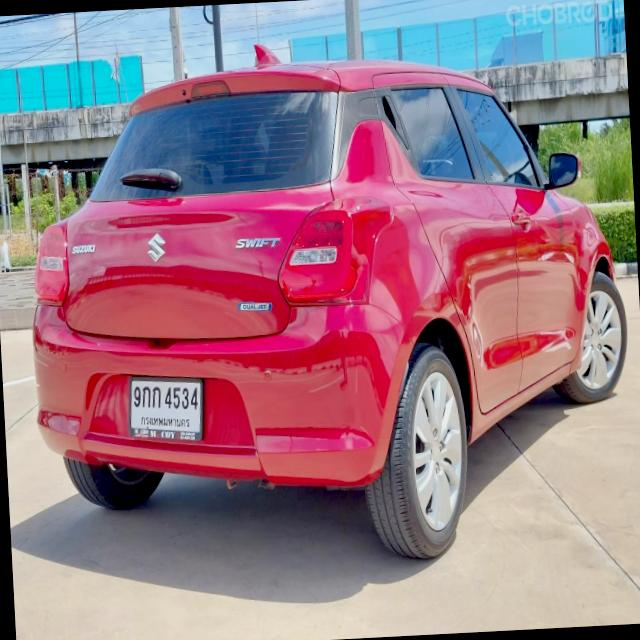license_plate: (126, 370, 207, 444)
